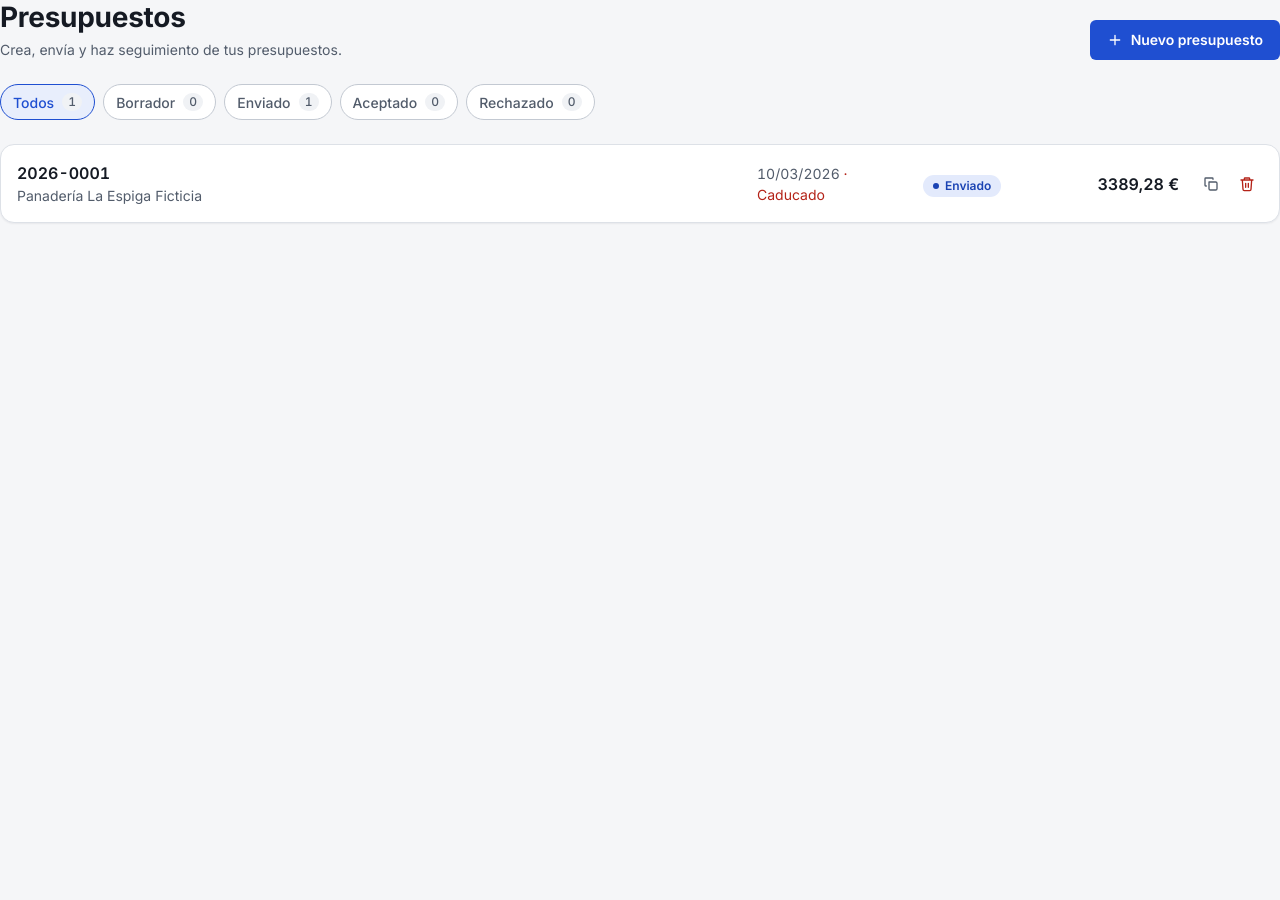
Test: QuotesPage › asks for confirmation before deleting, and shows the empty state afterwards
Click the button named "Eliminar presupuesto 2026-0001". click: (1247, 184)
box: [1231,168,1263,200]
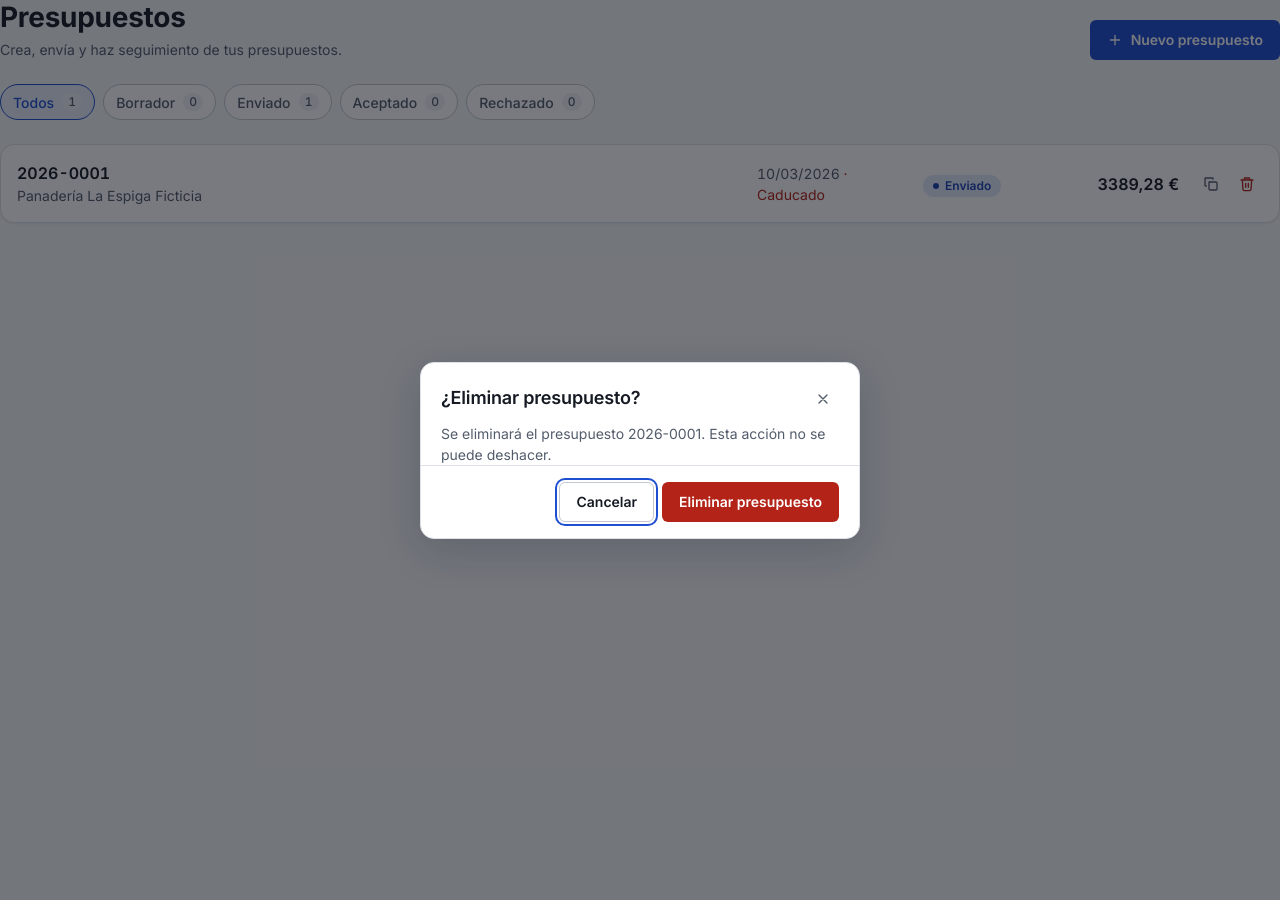
Click the button "Cancelar". click: (607, 502)
box: [560,482,654,522]
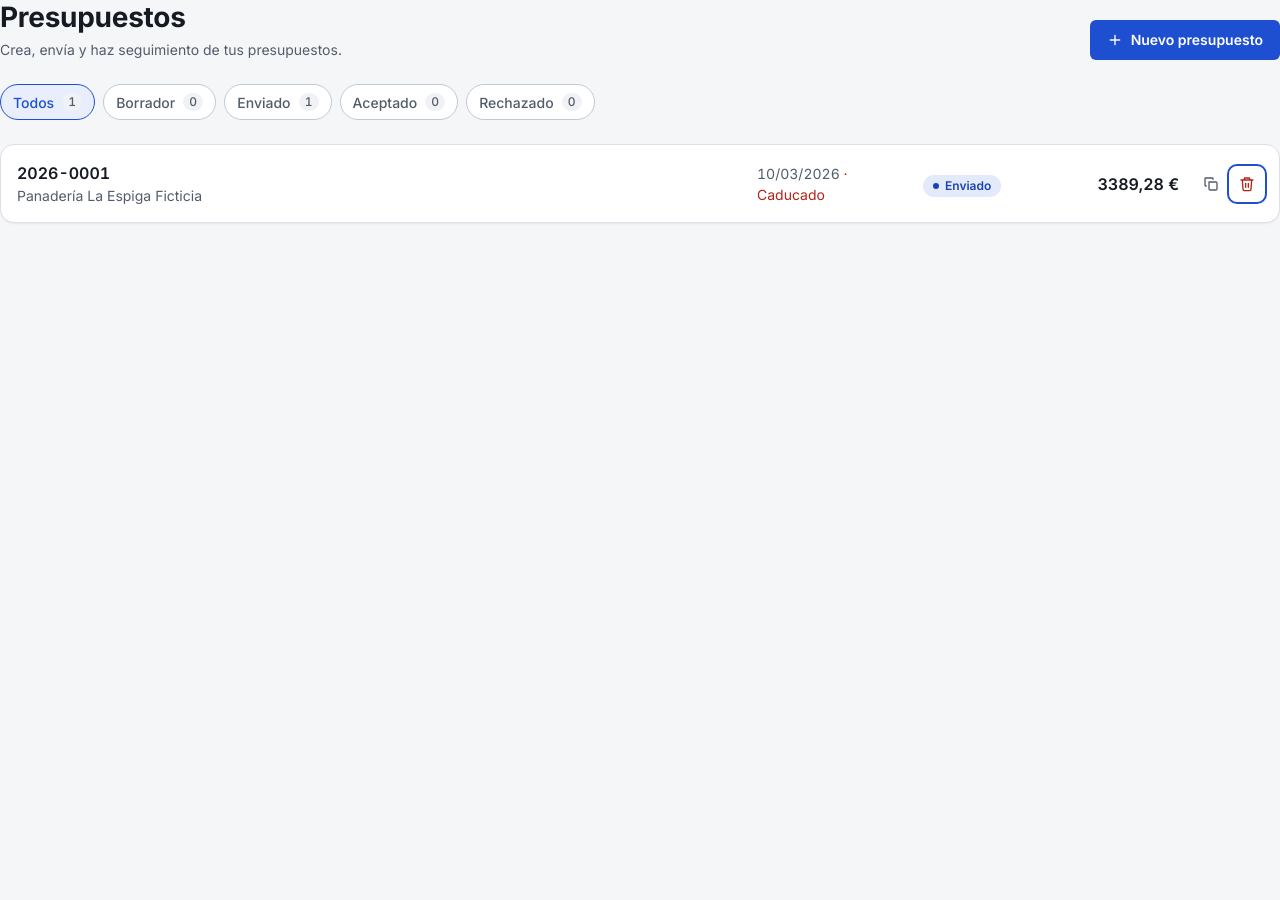
Check: the link "2026-0001 Panadería La Espiga Ficticia" is shown, box [17,163,202,204]
Click the button named "Eliminar presupuesto 2026-0001". click: (1247, 184)
box: [1231,168,1263,200]
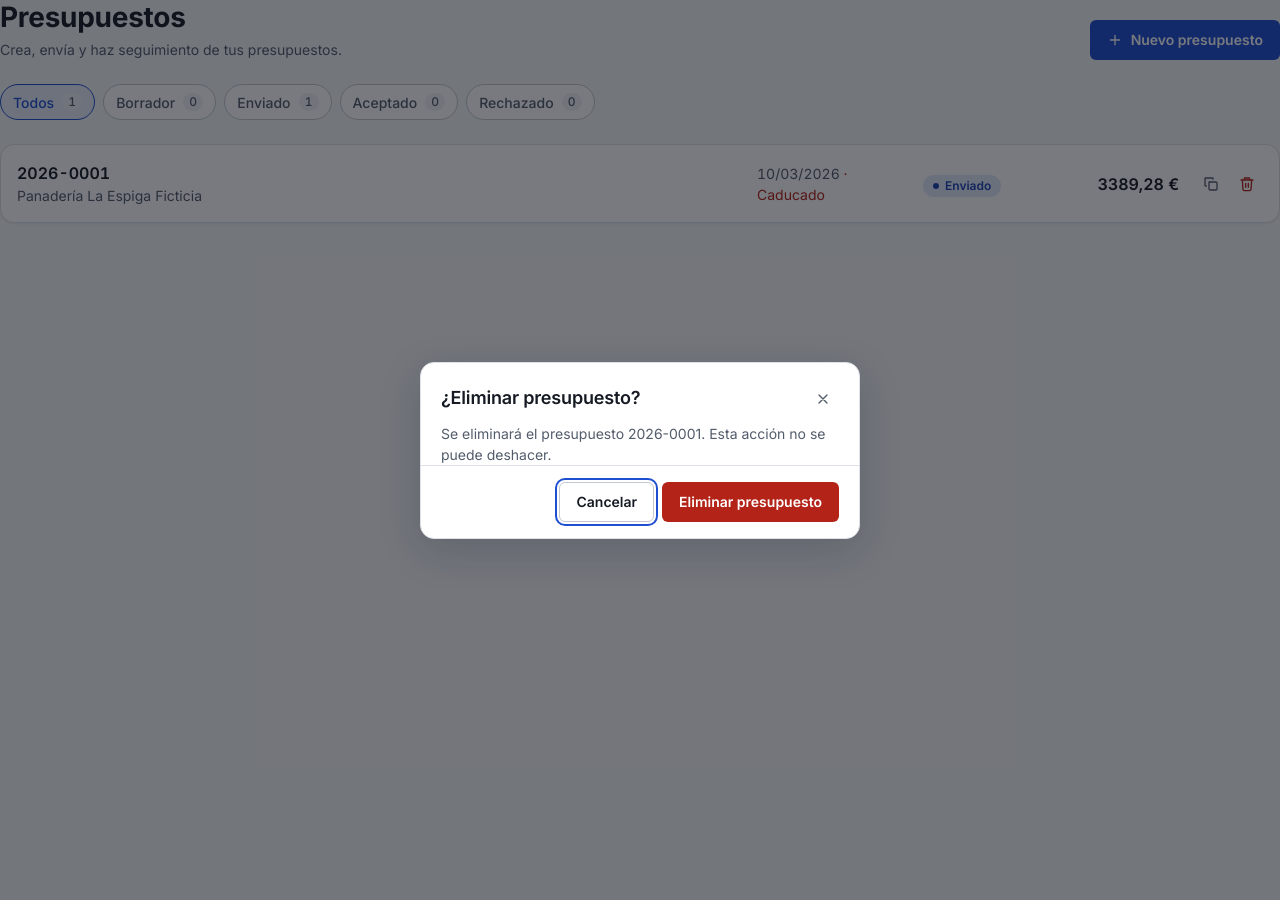
Click the button "Eliminar presupuesto". click: (751, 502)
box: [662,482,839,522]
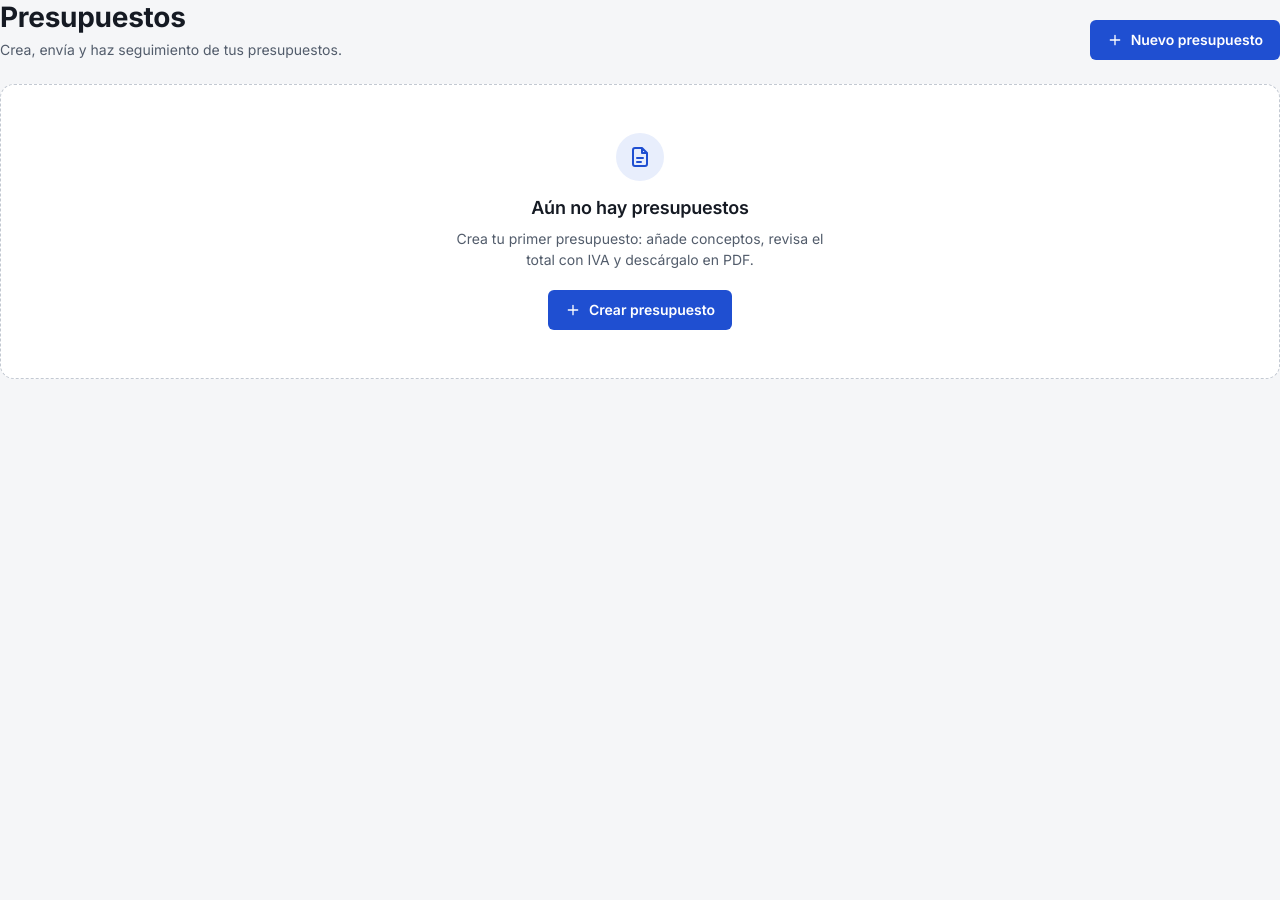
Check: the dialog is gone
Check: the heading "Aún no hay presupuestos" is shown, box [531,197,749,220]
